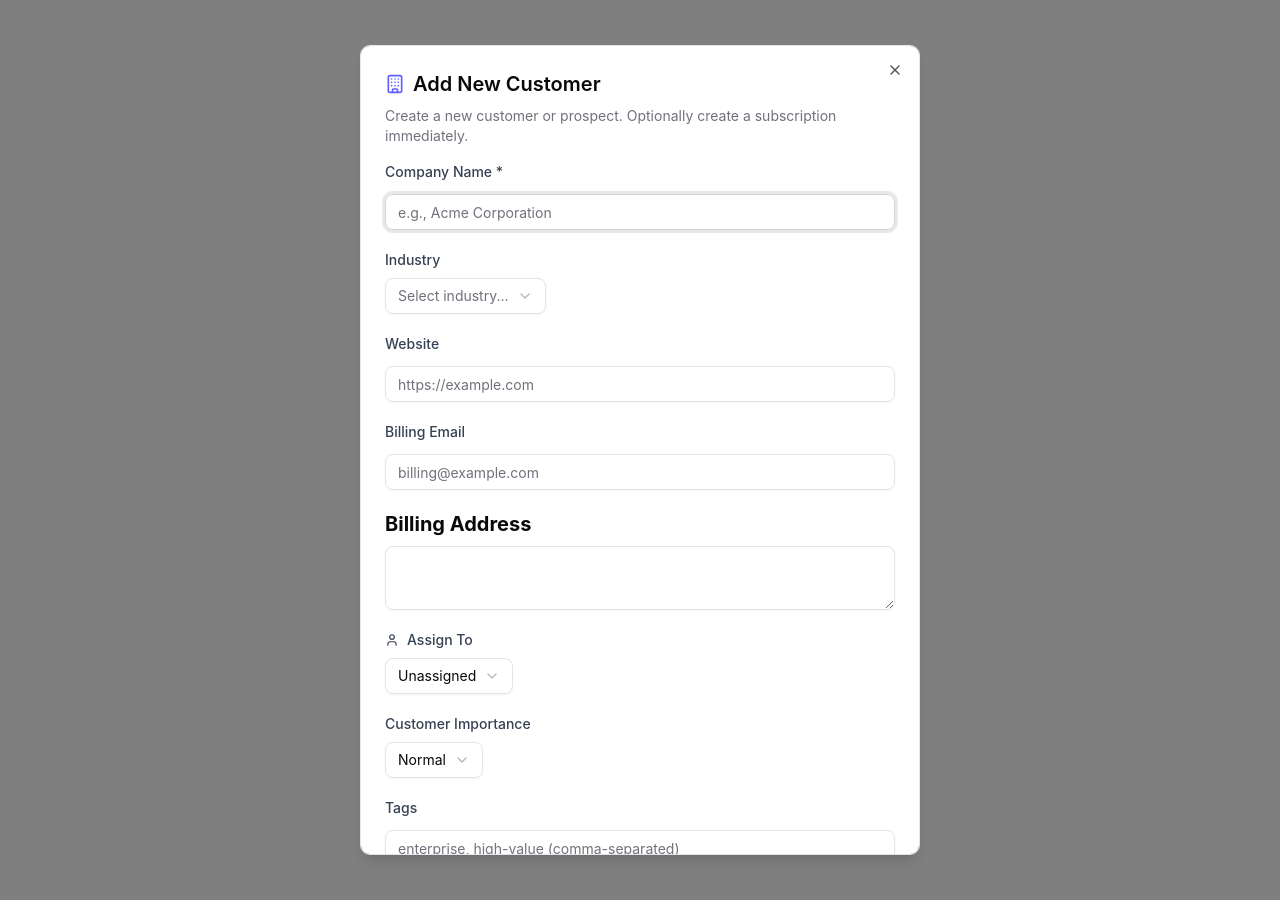
Scenario: CreateCustomerDialog › Create Subscription Toggle › should disable submit when subscription enabled but no plan selected
Note: Fill company name
Type "Acme Corp" into the field with placeholder "e.g., Acme Corporation". click: {"x": 640, "y": 212}
box: x1=385 y1=194 x2=895 y2=230
(page scrolled)
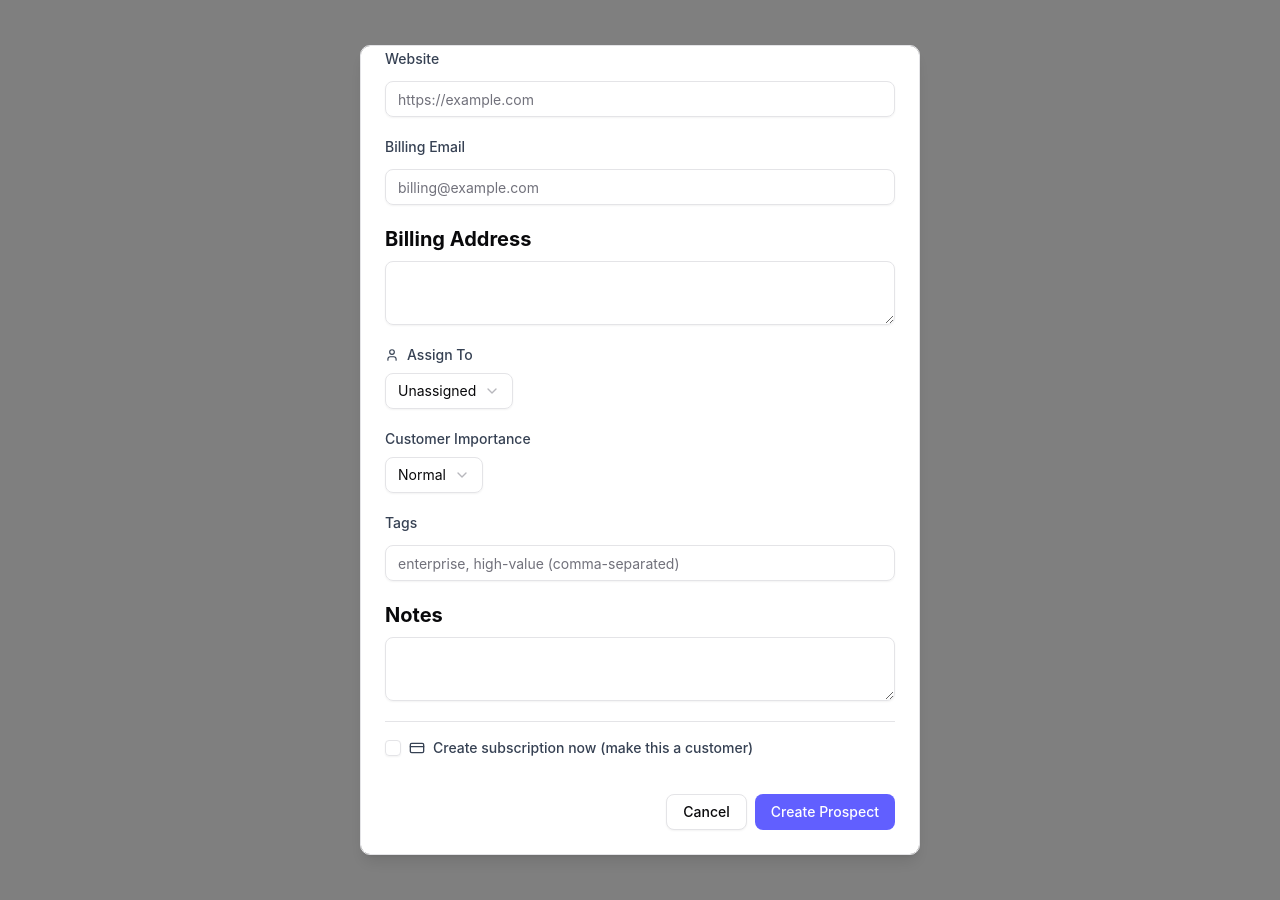
Note: Enable subscription toggle
Click the checkbox named "create subscription now". click: {"x": 393, "y": 748}
box: x1=385 y1=740 x2=401 y2=756
(page scrolled)
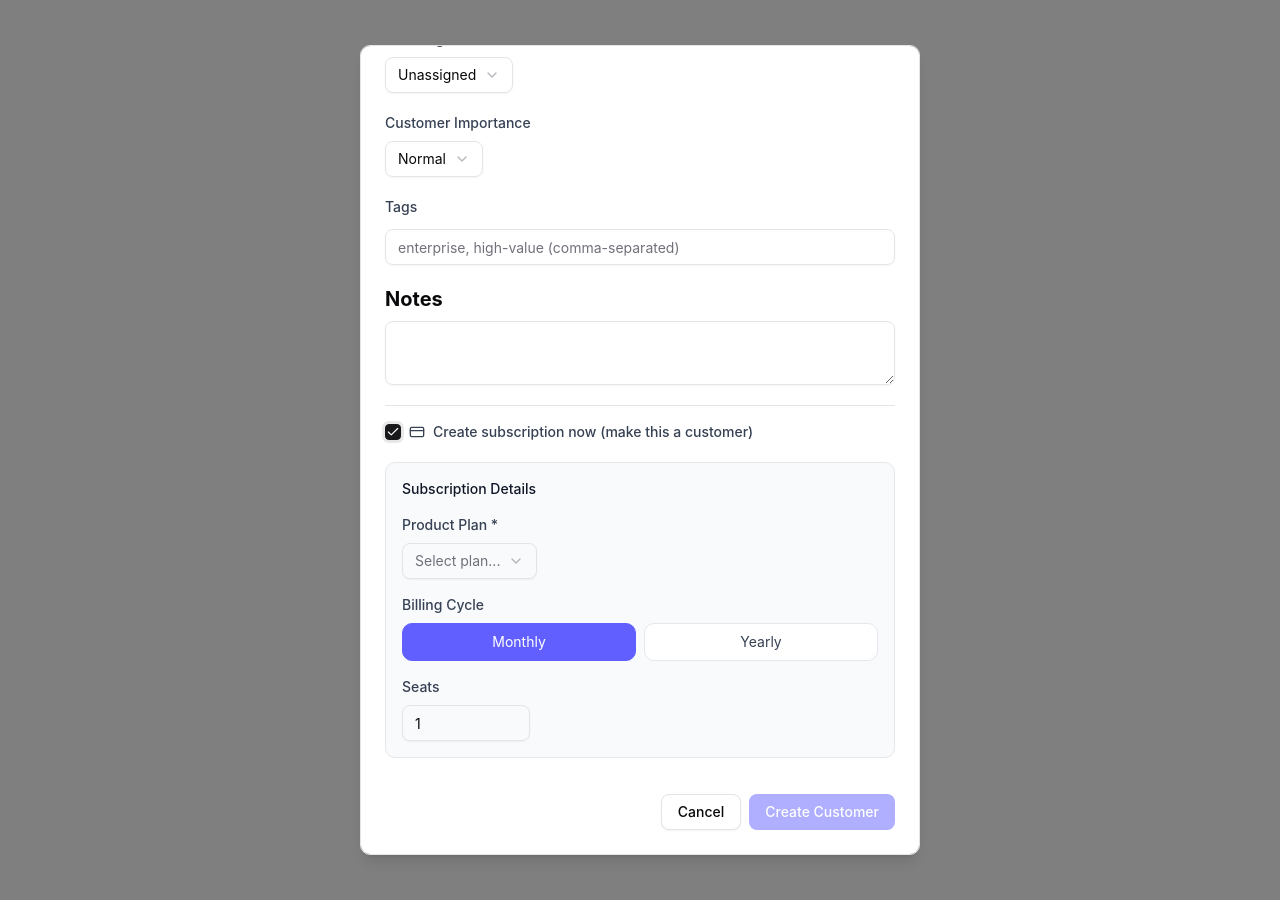
Now the button "Create Customer" is disabled, box x1=749 y1=794 x2=895 y2=830
